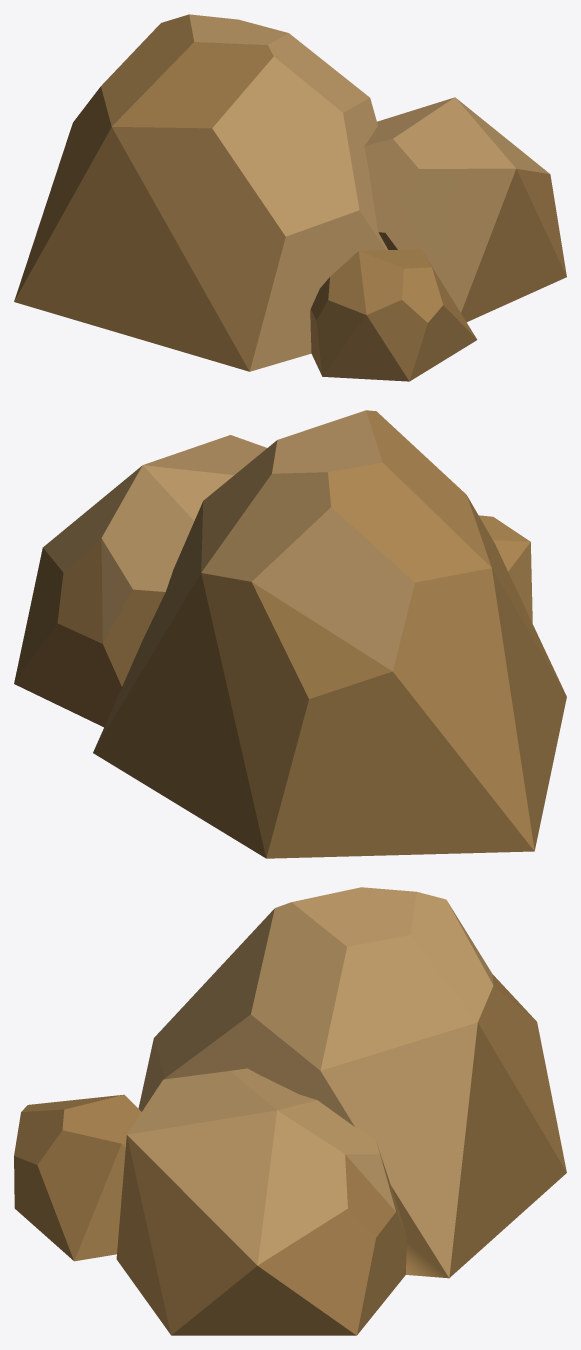
File: PrairieStone(1).fbx
3 views of the same model, one above another, from view 1: azimuth 30°, elevation 25°; view 2: azimuth 150°, elevation 25°; view 3: azimuth 270°, elevation 25° (orthographic). The views are drawn at different scales.
Parts seen in each view (by area): view 1: Prairiestone(1); view 2: Prairiestone(1); view 3: Prairiestone(1).
Boxes of the visible parts, box(x1,y1,x2,y2) form: Prairiestone(1): box(14, 14, 566, 381); Prairiestone(1): box(14, 410, 566, 858); Prairiestone(1): box(14, 887, 566, 1335).
Size of the model in its own units: 2.1 by 1.1 by 1.88.
